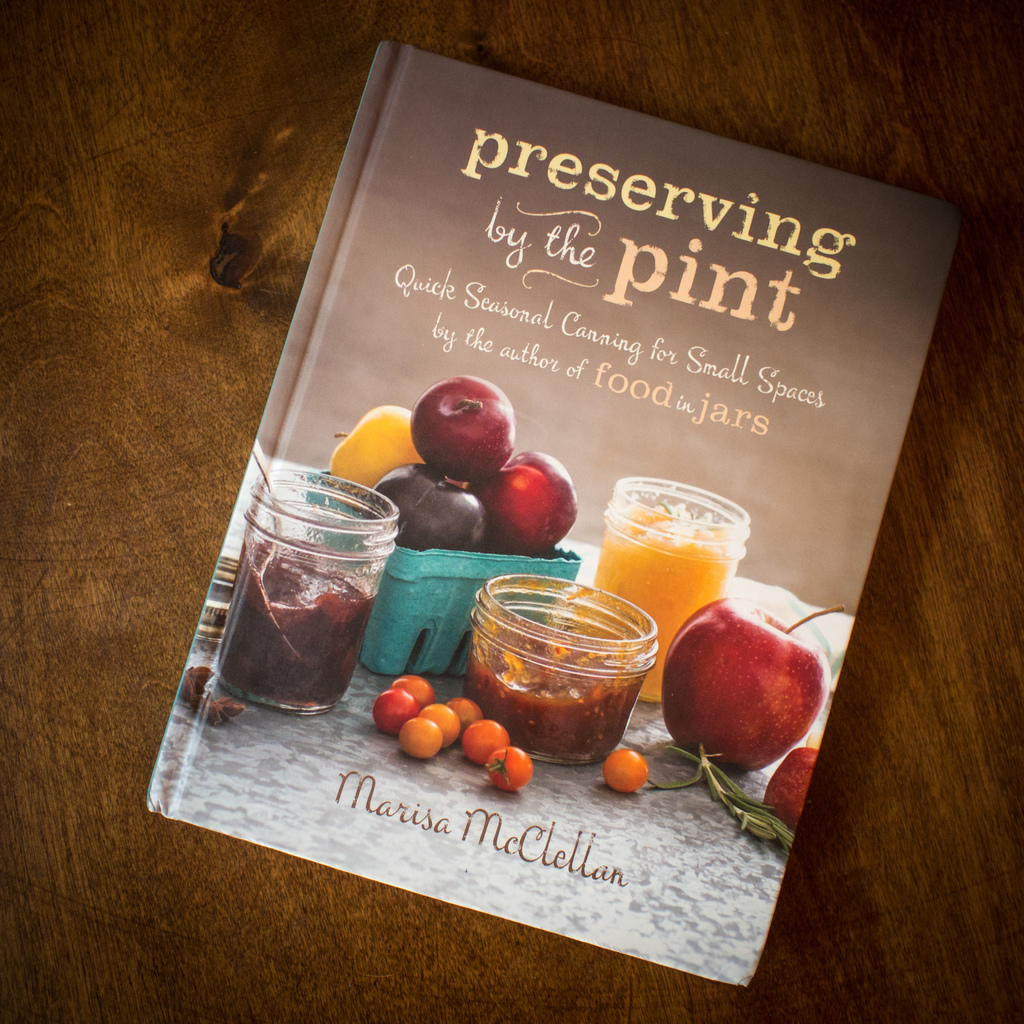Apple: (666, 606, 819, 782), (408, 371, 520, 485), (372, 462, 484, 549), (487, 448, 575, 554), (328, 404, 416, 488), (760, 742, 821, 828)
